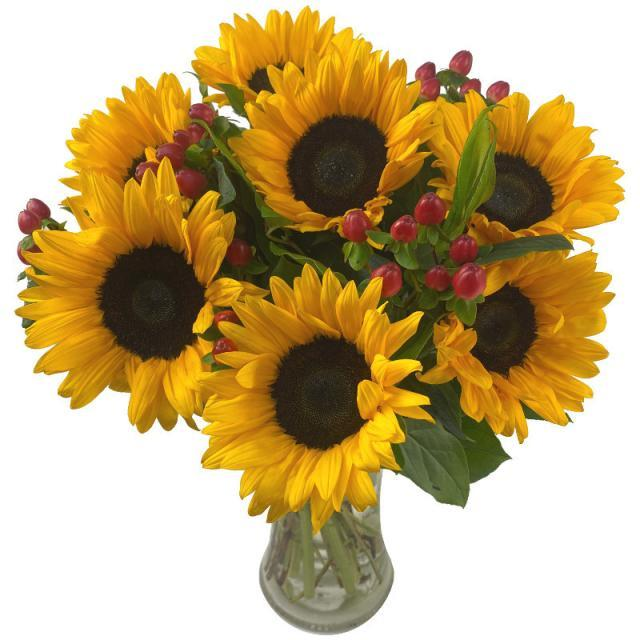sunflower: (14, 158, 269, 433), (197, 262, 436, 534), (226, 38, 439, 242), (414, 245, 614, 444), (425, 87, 626, 249), (58, 70, 217, 225), (190, 5, 354, 111)
